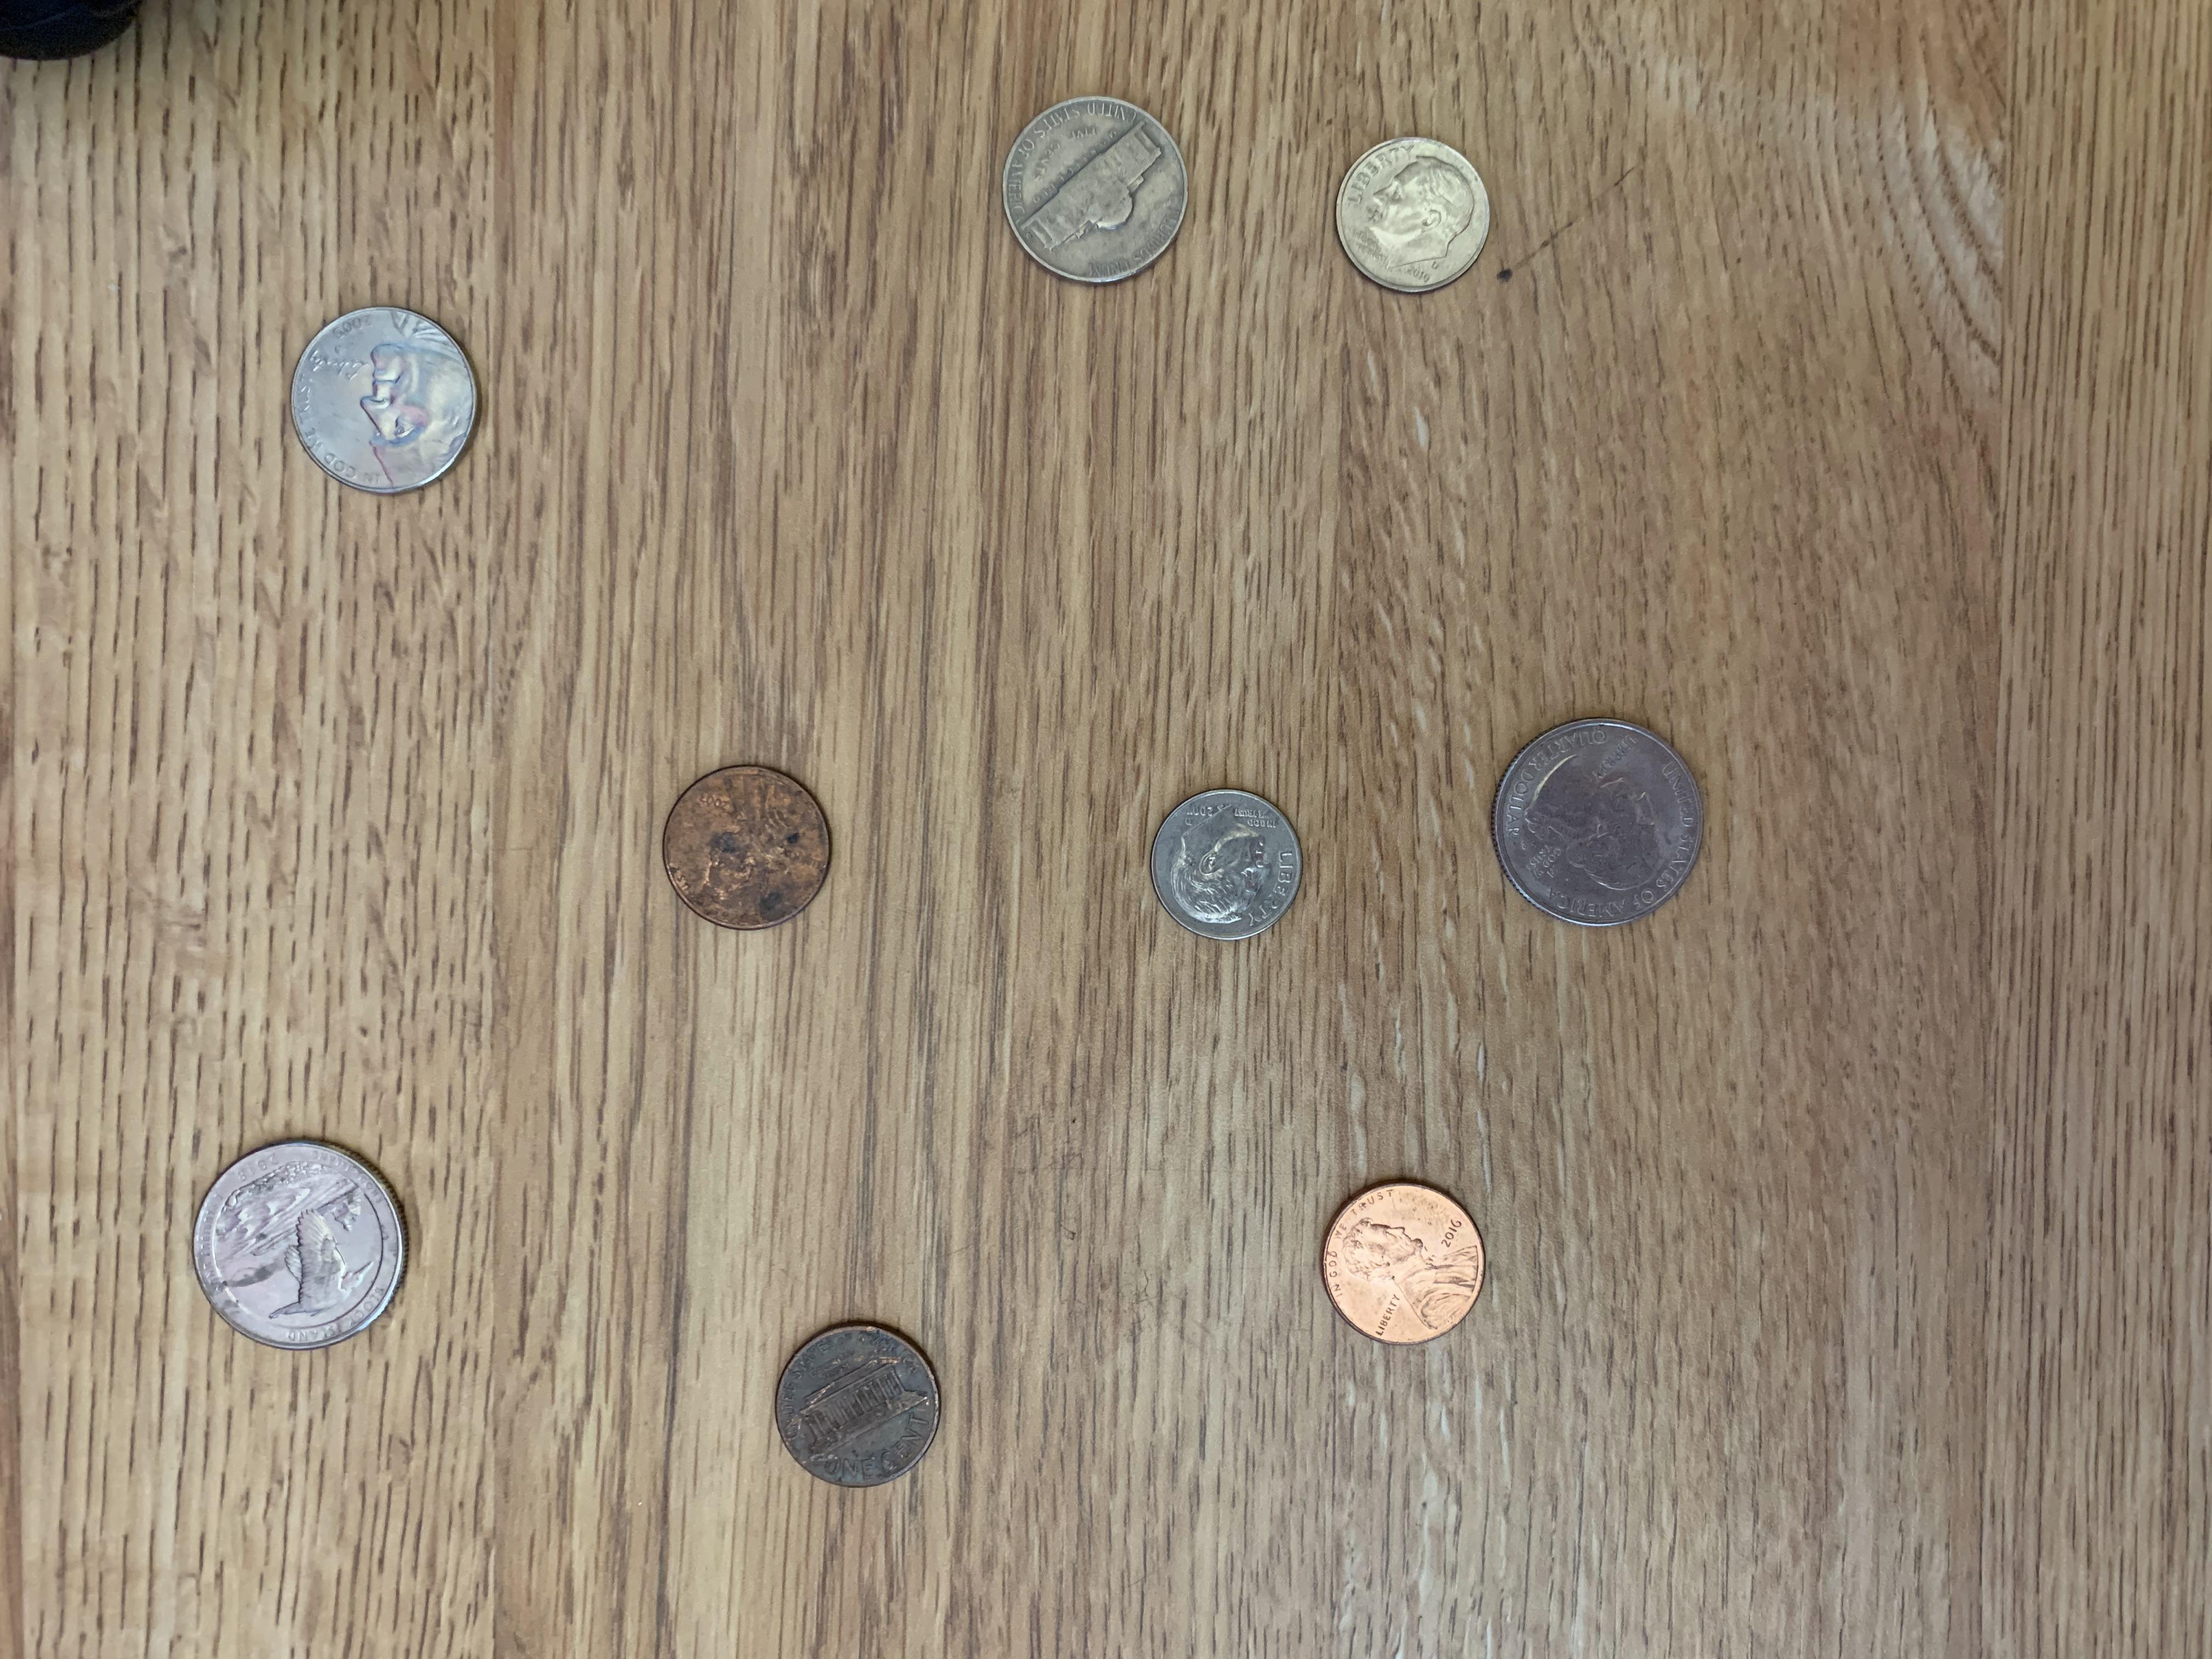Dime: (1325, 134, 1501, 296), (1146, 786, 1308, 941)
Nickel: (279, 300, 495, 502), (995, 98, 1191, 289)
Penny: (766, 1319, 949, 1495), (658, 763, 833, 936), (1324, 1178, 1491, 1347)
Quarter: (1482, 709, 1710, 938), (188, 1133, 406, 1359)
